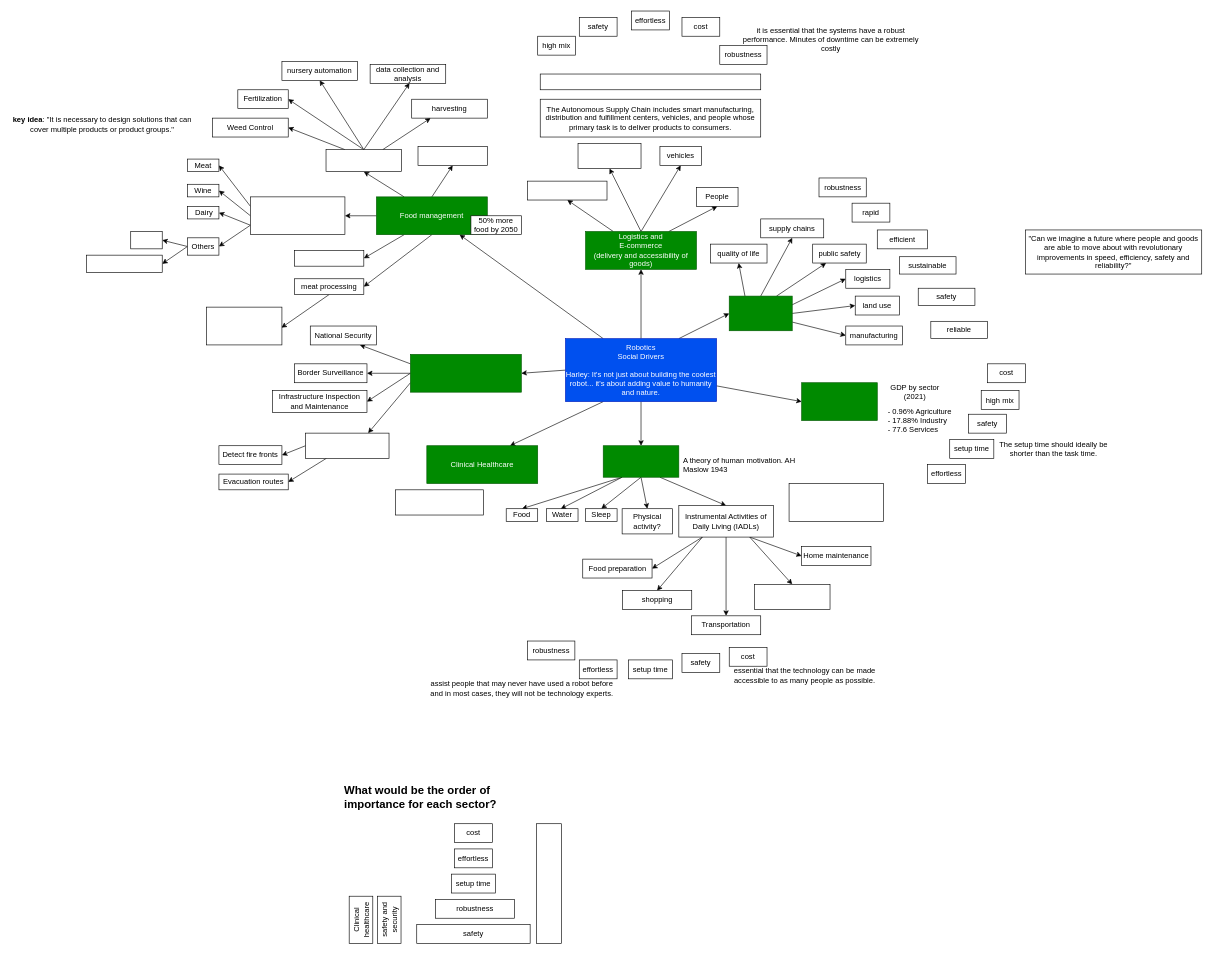
The diagram is 1213 pixels wide and 955 high, and some of its shapes have lost their labels. Each missing label, with the centre of its shape:
"Activities of Daily Living (ADL)" belongs at pixel 641 461.
"ADL" belongs at pixel 549 883.
"demand for meat is expected to increase by 40% (in the next 15 years-2020)" belongs at pixel 244 325.
"Distribution and fulfillment" belongs at pixel 609 156.
"Evacuation in Large-Scale Disasters" belongs at pixel 347 445.
"Fishing" belongs at pixel 146 240.
"food processing" belongs at pixel 452 155.
"fruit and vegetable" belongs at pixel 124 263.
"House cleaning and organization" belongs at pixel 792 597.
"Manufacturing (produce goods) 17% GDP" belongs at pixel 839 401.
"milking of cows!!" belongs at pixel 329 258.
"precision agriculture" belongs at pixel 363 160.
"Security and Rescue" belongs at pixel 465 373.
"Smart Manufacturing" belongs at pixel 567 190.
"three major sectors of the domain in terms of employment." belongs at pixel 297 215.
"Transportation (impact across sectors)" belongs at pixel 760 313.
"tremendous variability across the items" belongs at pixel 650 81.
"Ultimate goal : to improve the quality of life" belongs at pixel 836 502.
"“surgical data science”" belongs at pixel 439 502.
